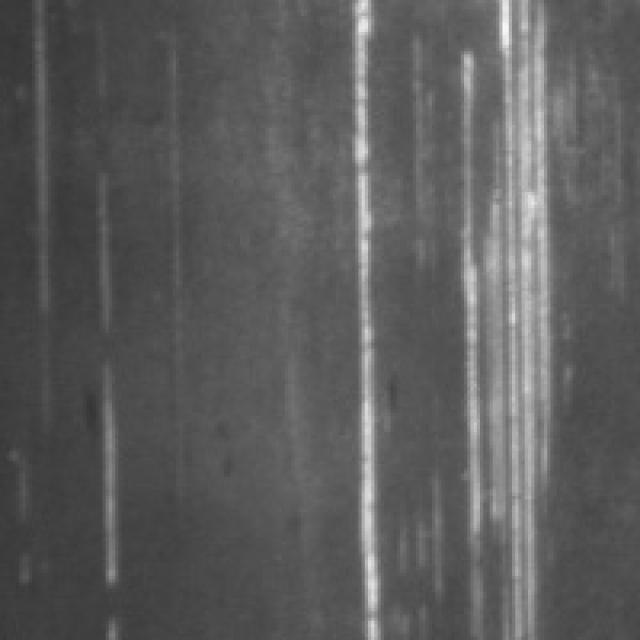scratches: (464, 0, 566, 634), (342, 0, 403, 634), (26, 0, 67, 314), (96, 340, 131, 630)
